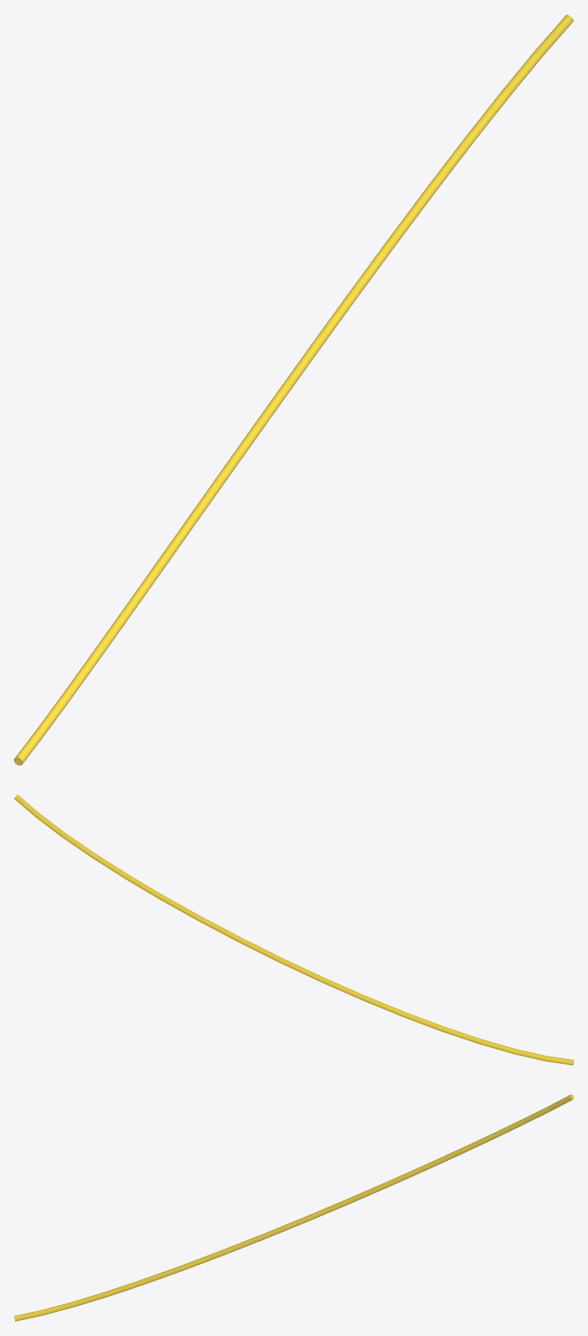
Rendered from Event_17758602_track_142.fbx.
The picture shows the model from 3 angles, top to bottom: view 1: azimuth 30°, elevation 25°; view 2: azimuth 150°, elevation 25°; view 3: azimuth 330°, elevation 25°; orthographic projection. The views are drawn at different scales.
Parts seen in each view (by area): view 1: Model; view 2: Model; view 3: Model.
Boxes of the visible parts, box(x1,y1,x2,y2) form: Model: box(14, 14, 573, 765); Model: box(14, 794, 573, 1065); Model: box(14, 1094, 573, 1321).
Bounding box in the file's own units: 3.53 × 1.89 × 1.64.
